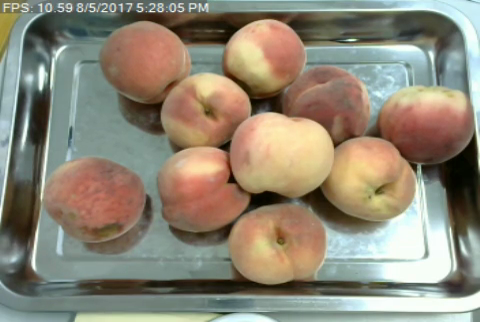Peach: (225, 110, 335, 198), (41, 154, 148, 241), (225, 202, 330, 284), (157, 146, 250, 234), (322, 135, 414, 220), (377, 85, 475, 164), (100, 20, 190, 105), (159, 71, 253, 150), (218, 17, 307, 98), (284, 61, 372, 141)
